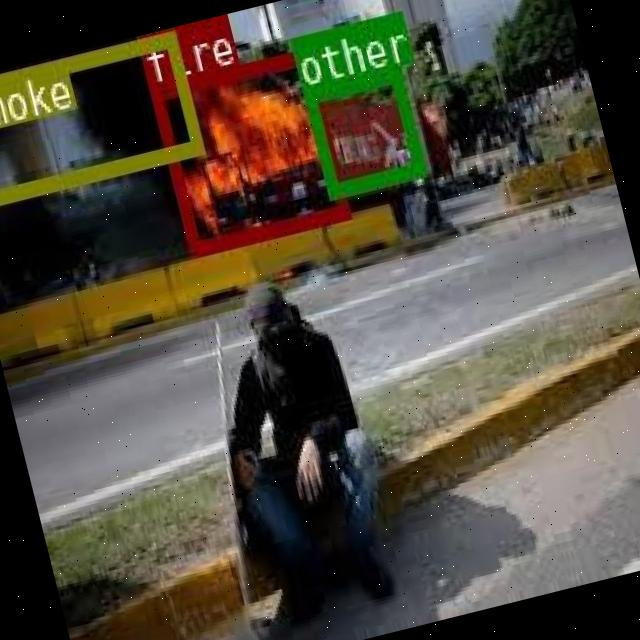fire: (148, 46, 347, 254)
smoke: (0, 28, 202, 203)
